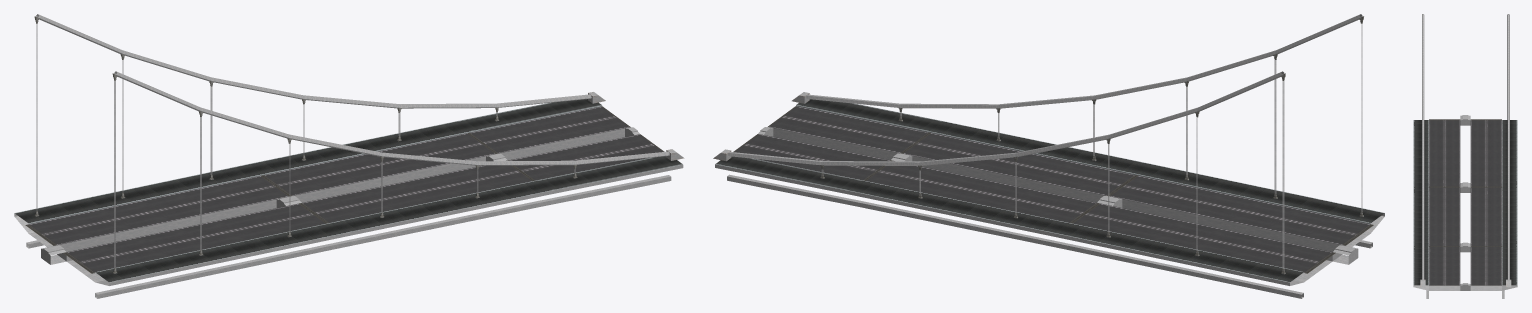
File: baybridge1_sfse.obj
The picture shows the model from 3 angles, left to right: view 1: azimuth 30°, elevation 25°; view 2: azimuth 150°, elevation 25°; view 3: azimuth 270°, elevation 25°; orthographic projection. The views are drawn at different scales.
Parts seen in each view (by area): view 1: baybridge1_SFSe; view 2: baybridge1_SFSe; view 3: baybridge1_SFSe.
Part boxes in pixels (x1,y1,x2,y2): baybridge1_SFSe: (14, 14, 684, 298); baybridge1_SFSe: (713, 14, 1384, 298); baybridge1_SFSe: (1413, 14, 1517, 298).
Bounding box in the file's own units: 145 × 57.56 × 40.
6 materials, 6 textured.
